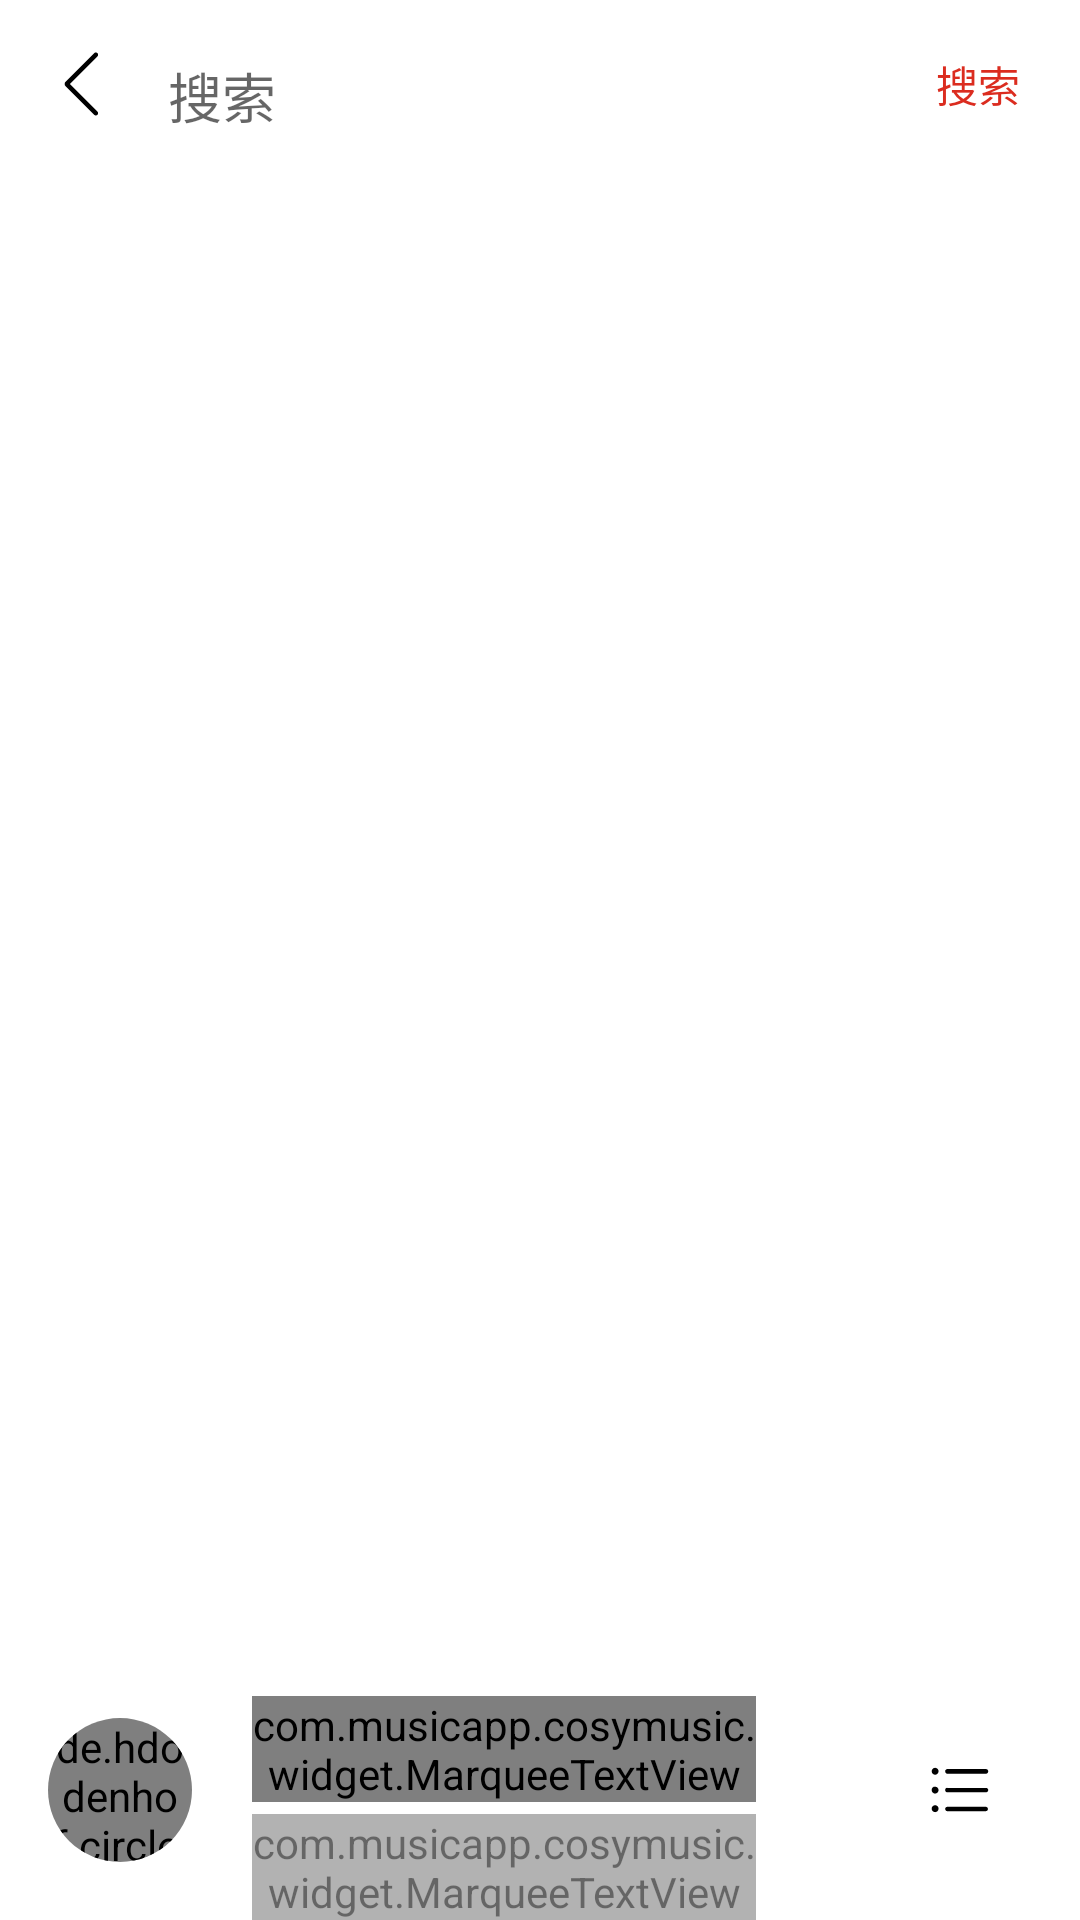

Icons on this 1080px×1920px Android screen, each with its box as (x1, y1, x2, y2):
back: (64, 52, 98, 116)
player menu: (931, 1767, 989, 1812)
